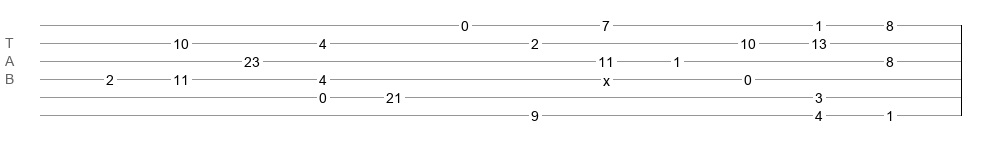0: (319, 90, 327, 100), (461, 18, 469, 28), (744, 72, 752, 82)
1: (673, 54, 681, 64), (815, 18, 823, 28), (886, 108, 894, 118)
10: (173, 36, 189, 46), (740, 36, 756, 46)
11: (173, 72, 189, 82), (598, 54, 614, 64)
13: (811, 36, 827, 46)
2: (106, 72, 114, 82), (531, 36, 539, 46)
21: (386, 90, 402, 100)
23: (244, 54, 260, 64)
3: (815, 90, 823, 100)
4: (319, 36, 327, 46), (319, 72, 327, 82), (815, 108, 823, 118)
7: (602, 18, 610, 28)
8: (886, 54, 894, 64), (886, 18, 894, 28)
9: (531, 108, 539, 118)
x: (603, 73, 610, 81)
